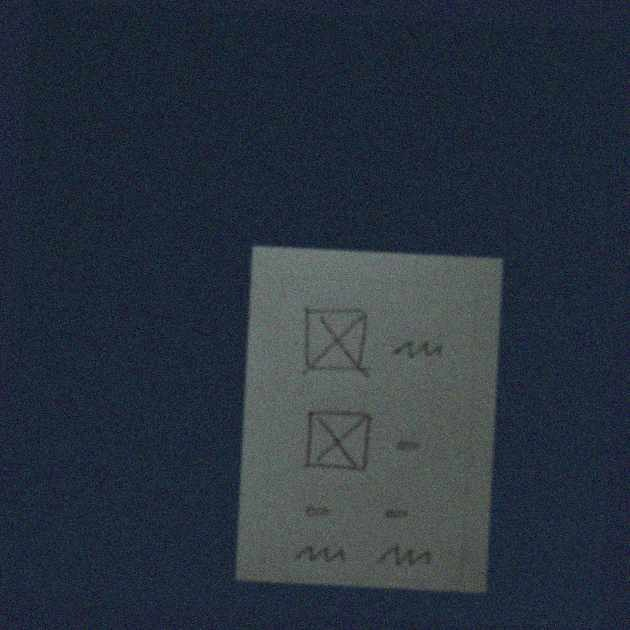image: (299, 301, 379, 384), (298, 403, 379, 478)
switch: (380, 501, 417, 527), (298, 502, 339, 523), (394, 437, 425, 456)
text: (371, 539, 438, 573), (390, 335, 449, 367), (288, 540, 353, 567)
